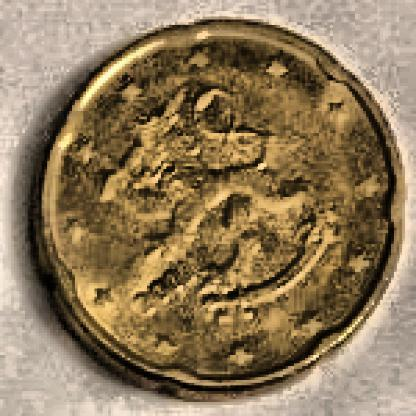coin: (26, 21, 401, 396)
